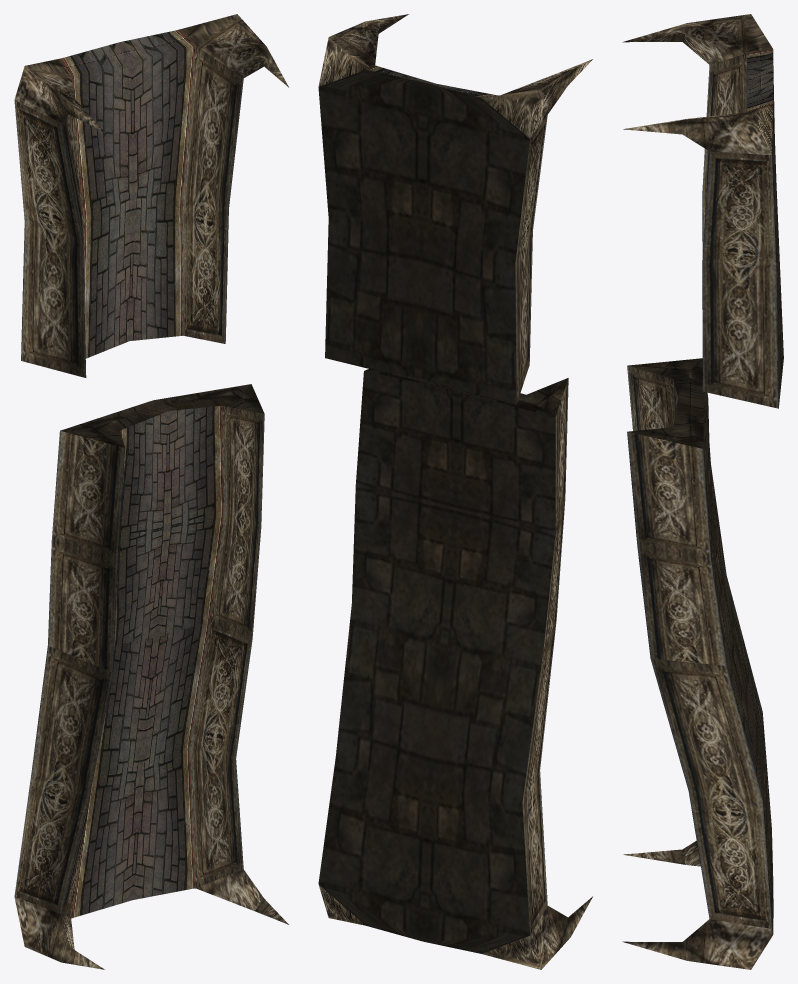
File: bridge-destr_03.obj
3 renders of one model, left to right at view 1: azimuth 30°, elevation 25°; view 2: azimuth 150°, elevation 25°; view 3: azimuth 270°, elevation 25°, orthographic. The views are drawn at different scales.
Parts seen in each view (by area): view 1: (null); view 2: (null); view 3: (null).
Boxes of the visible parts, left/top/right/bottom form: (null): left=14, top=14, right=288, bottom=969; (null): left=318, top=14, right=592, bottom=969; (null): left=622, top=14, right=783, bottom=969.
Bounding box in the file's own units: 2.04 × 8.07 × 1.38.
